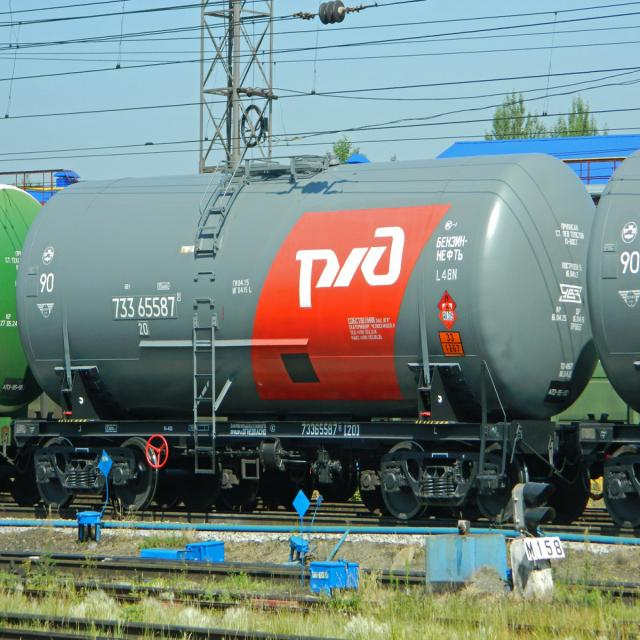tank: (12, 136, 596, 554), (583, 120, 640, 546), (0, 167, 54, 505)
